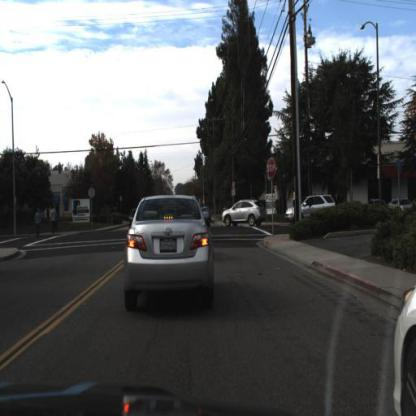car: (124, 193, 212, 308), (389, 276, 416, 416), (285, 192, 332, 220), (222, 200, 263, 230), (285, 194, 336, 218)
pedestrian: (34, 205, 43, 240), (50, 206, 59, 237), (49, 205, 57, 236)
